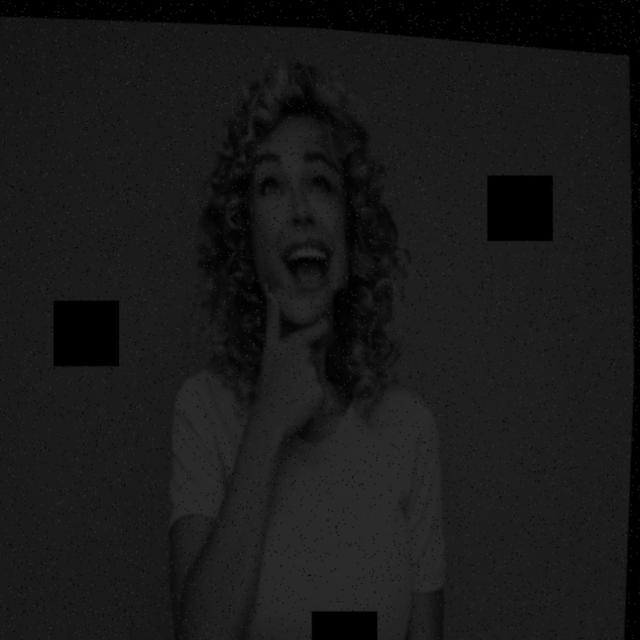Happy: (182, 97, 402, 352)
